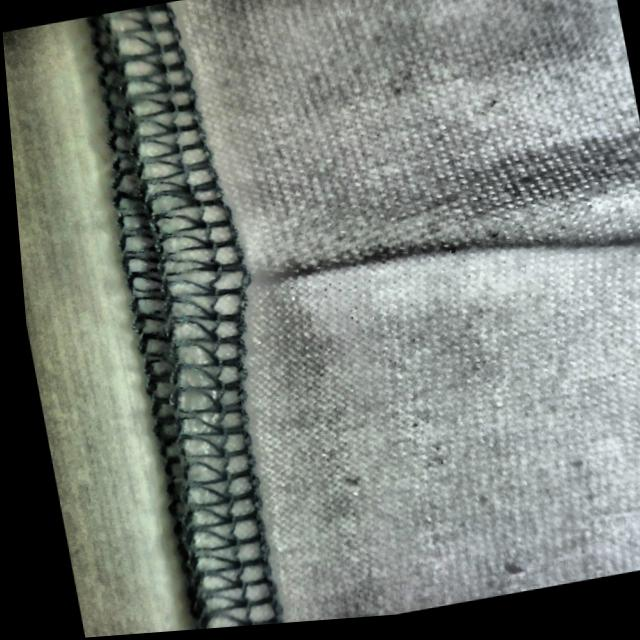seam: (145, 171, 461, 353)
